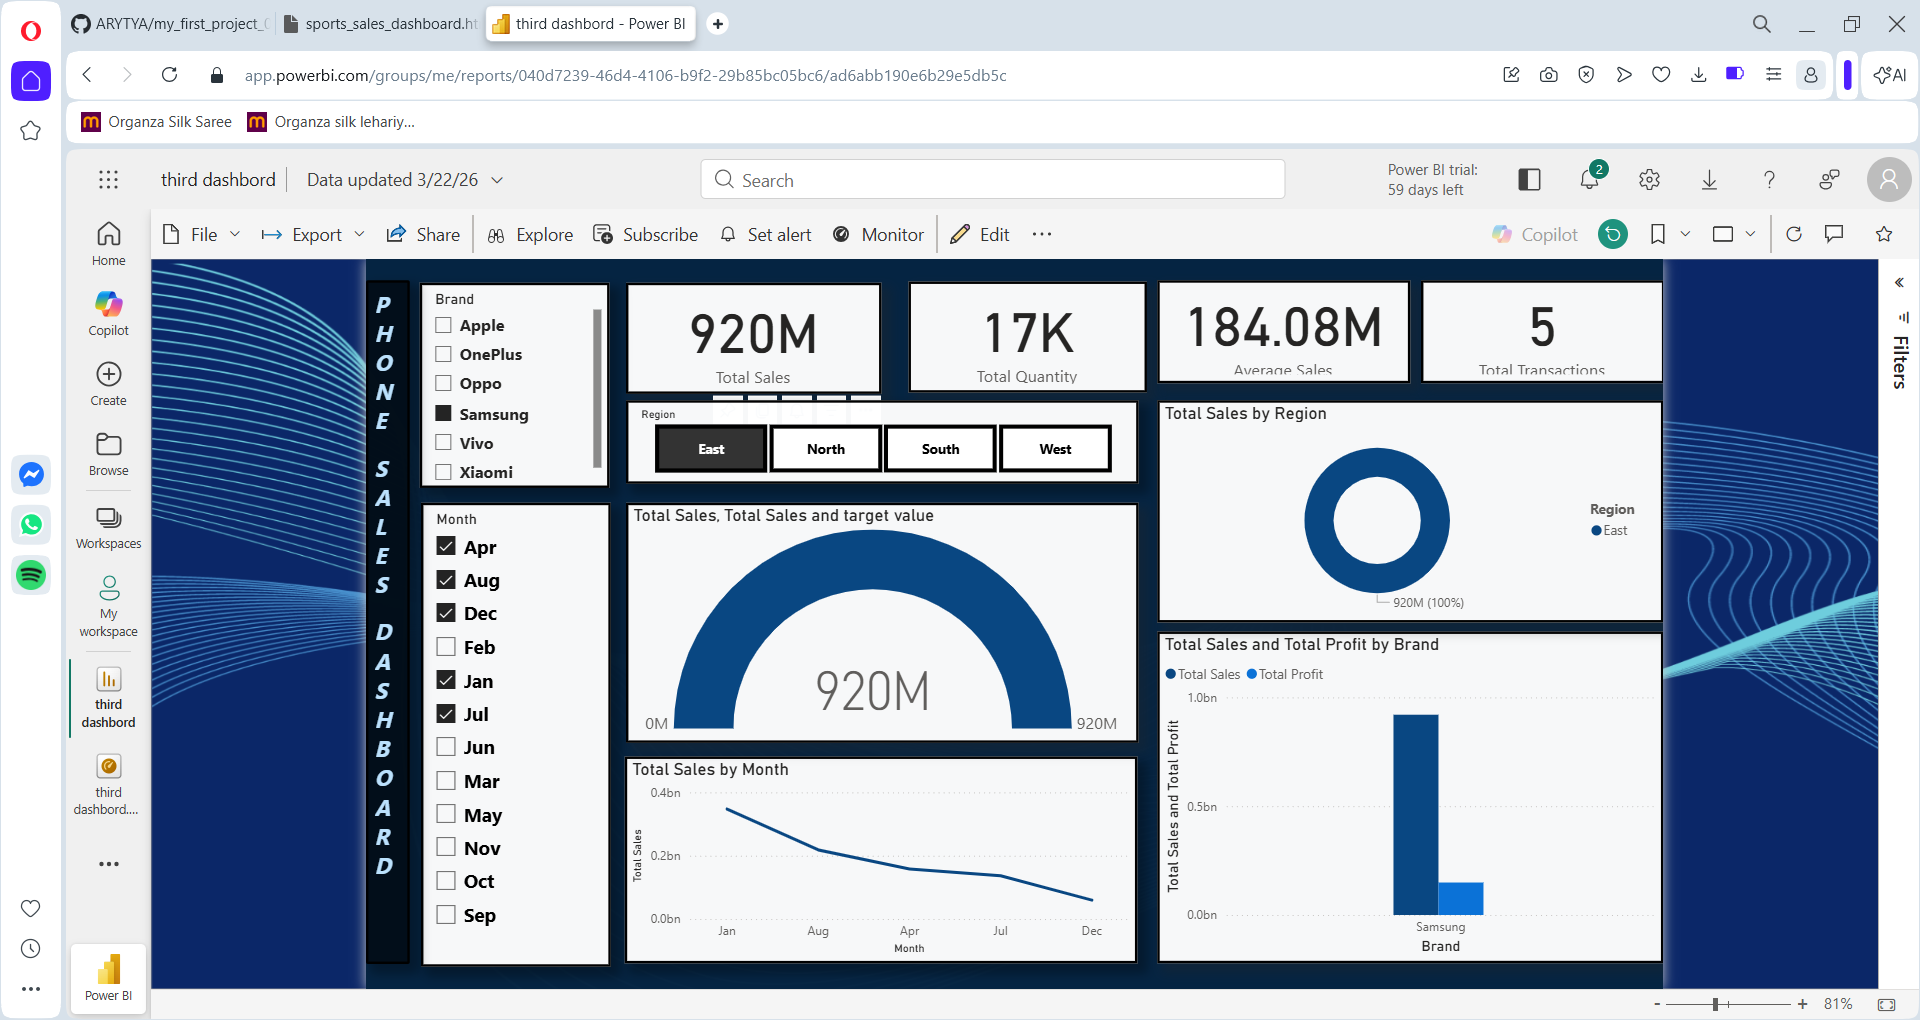

What the dashboard file says about the page in this screenshot:
{"tool":"powerbi","page":{"name":"Page 1","canvas":[1280,720],"ordinal":0},"visuals":[{"type":"card","fields":{"Values":["Sheet1.Total Sales"]},"box":[257,22.9,252.1,109.8],"z":0},{"type":"card","fields":{"Values":["Sheet1.Total Quantity"]},"box":[535.7,21.7,235.3,109.8],"z":1000},{"type":"card","fields":{"Values":["Sheet1.Average Sales"]},"box":[780.6,20.5,249.7,101.3],"z":2000},{"type":"card","fields":{"Values":["Sheet1.Total Transactions"]},"box":[1040,20.5,240.1,101.3],"z":3000},{"type":"slicer","fields":{"Values":["Sheet1.Brand"]},"box":[53.1,22.9,187,202.7],"z":4000},{"type":"slicer","fields":{"Values":["Sheet1.Month"]},"box":[54.3,240.1,187,457.2],"z":5000},{"type":"slicer","fields":{"Values":["Sheet1.Region"]},"box":[257,138.7,505.5,82],"z":6000},{"type":"lineChart","fields":{"Category":["Sheet1.Month"],"Y":["Sheet1.Total Sales"]},"box":[255.8,491,505.5,203.9],"z":7000},{"type":"clusteredColumnChart","fields":{"Category":["Sheet1.Brand"],"Y":["Sheet1.Total Sales","Sheet1.Total Profit"]},"box":[780.6,368,499.5,326.9],"z":8000},{"type":"donutChart","fields":{"Category":["Sheet1.Region"],"Y":["Sheet1.Total Sales"]},"box":[780.6,138.7,499.5,219.6],"z":9000},{"type":"gauge","fields":{"Y":["Sheet1.Total Sales"],"MaxValue":["Sheet1.Total Sales"],"TargetValue":["Sheet1.target value"]},"box":[257,240.1,505.5,236.5],"z":10000},{"type":"textbox","box":[0,20.5,43.4,674.4],"z":11000}]}

Visuals, with their boxes on the page's 1280x720 design canvas (x1, y1, x2, y2). These are canvas units, not pixel positions in the 1920x1020 screenshot, which may show the page scaled, cropped or inside an application window:
card - Sheet1.Total Sales: 257,23,509,133
card - Sheet1.Total Quantity: 536,22,771,132
card - Sheet1.Average Sales: 781,20,1030,122
card - Sheet1.Total Transactions: 1040,20,1280,122
slicer - Sheet1.Brand: 53,23,240,226
slicer - Sheet1.Month: 54,240,241,697
slicer - Sheet1.Region: 257,139,762,221
lineChart - Sheet1.Month x Sheet1.Total Sales: 256,491,761,695
clusteredColumnChart - Sheet1.Brand x Sheet1.Total Sales: 781,368,1280,695
donutChart - Sheet1.Region x Sheet1.Total Sales: 781,139,1280,358
gauge - Sheet1.Total Sales x Sheet1.Total Sales: 257,240,762,477
textbox: 0,20,43,695
